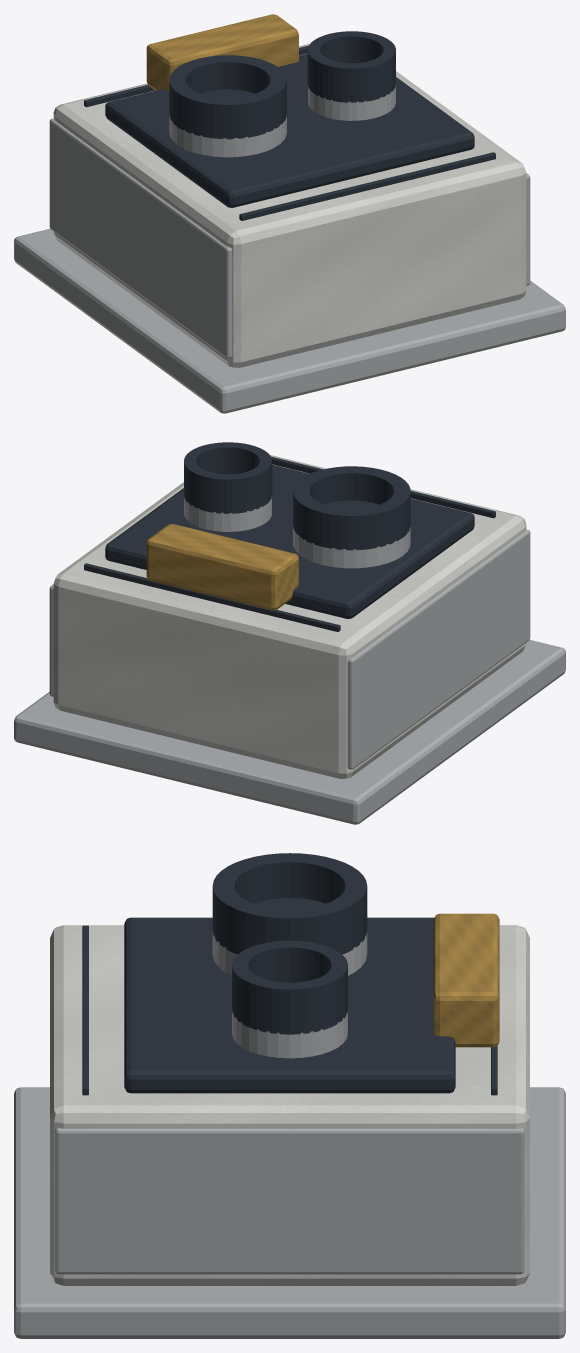
Rendered from telescope_wide_field_camera.glb.
3 renders of one model, top to bottom at view 1: azimuth 30°, elevation 25°; view 2: azimuth 150°, elevation 25°; view 3: azimuth 270°, elevation 25°, orthographic. The views are drawn at different scales.
Parts seen in each view (by area): view 1: Camera_InstrumentHousing, Mount_Base.002, Module_Rail, Camera_OpticalBench, Channel_Baffle, Detector_Electronics, Channel_Baffle.001, Imaging_Channel, Module_Seam, Imaging_Channel.001, Module_Seam.001, Module_Rail.001; view 2: Camera_InstrumentHousing, Mount_Base.002, Module_Rail, Camera_OpticalBench, Detector_Electronics, Channel_Baffle, Channel_Baffle.001, Imaging_Channel, Module_Seam.001, Imaging_Channel.001, Module_Seam, Module_Rail.001; view 3: Module_Rail.001, Mount_Base.002, Camera_InstrumentHousing, Camera_OpticalBench, Channel_Baffle, Channel_Baffle.001, Detector_Electronics, Imaging_Channel.001, Module_Seam, Imaging_Channel.
Part boxes in pixels (bbox=[...]): Camera_InstrumentHousing: bbox=[53, 44, 526, 367]; Mount_Base.002: bbox=[14, 229, 565, 413]; Module_Rail: bbox=[49, 118, 232, 358]; Camera_OpticalBench: bbox=[105, 53, 474, 207]; Channel_Baffle: bbox=[169, 55, 286, 139]; Detector_Electronics: bbox=[146, 14, 298, 91]; Channel_Baffle.001: bbox=[307, 31, 395, 102]; Imaging_Channel: bbox=[169, 115, 286, 157]; Module_Seam: bbox=[239, 152, 495, 220]; Imaging_Channel.001: bbox=[308, 84, 395, 120]; Module_Seam.001: bbox=[84, 45, 308, 107]; Module_Rail.001: bbox=[526, 173, 530, 285]; Camera_InstrumentHousing: bbox=[53, 455, 526, 778]; Mount_Base.002: bbox=[14, 640, 565, 824]; Module_Rail: bbox=[347, 529, 530, 769]; Camera_OpticalBench: bbox=[105, 464, 474, 618]; Detector_Electronics: bbox=[146, 524, 298, 610]; Channel_Baffle: bbox=[293, 466, 410, 550]; Channel_Baffle.001: bbox=[184, 442, 272, 513]; Imaging_Channel: bbox=[293, 526, 410, 568]; Module_Seam.001: bbox=[84, 563, 340, 631]; Imaging_Channel.001: bbox=[184, 495, 271, 531]; Module_Seam: bbox=[271, 456, 495, 518]; Module_Rail.001: bbox=[49, 584, 53, 696]; Module_Rail.001: bbox=[55, 1128, 524, 1274]; Mount_Base.002: bbox=[14, 1087, 565, 1338]; Camera_InstrumentHousing: bbox=[50, 925, 529, 1285]; Camera_OpticalBench: bbox=[124, 917, 455, 1093]; Channel_Baffle: bbox=[212, 853, 367, 954]; Channel_Baffle.001: bbox=[232, 940, 347, 1034]; Detector_Electronics: bbox=[433, 913, 499, 1047]; Imaging_Channel.001: bbox=[232, 1011, 347, 1058]; Module_Seam: bbox=[82, 925, 88, 1095]; Imaging_Channel: bbox=[212, 931, 367, 975].
Size of the model in its own units: 0.95 by 0.61 by 1.
Materials: 4 (2 with a texture image).
